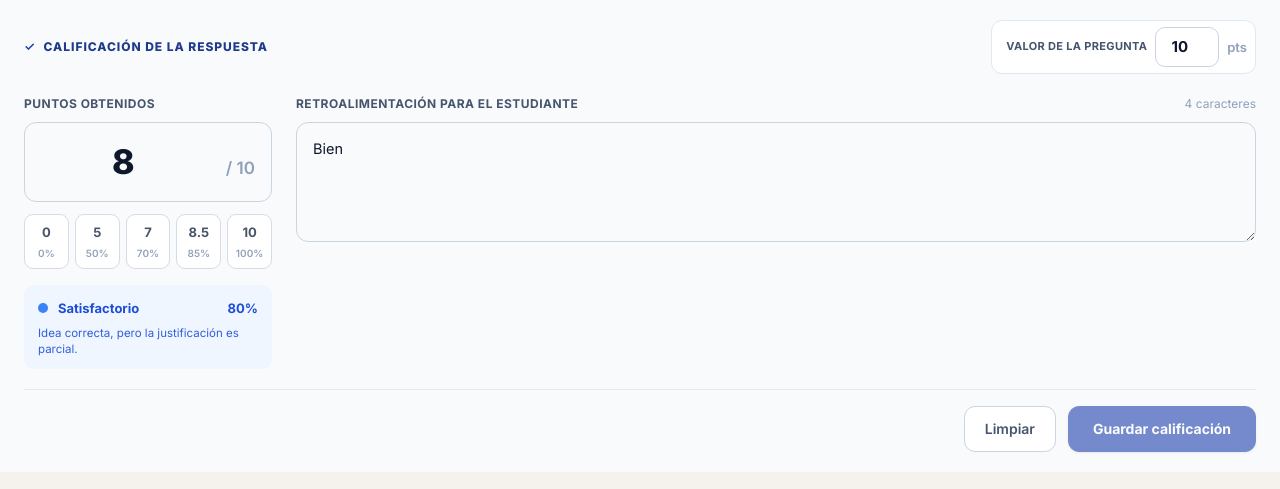
it: QuestionGradingPanel › disables Guardar until edited and when invalid
Expected: the button "Guardar calificación" is disabled, 1068,406 -> 1256,452
// make it invalid: points above max
Replace the text in the number field labelled "Puntos obtenidos" with "20" at (130, 162), box 41,133 -> 220,191
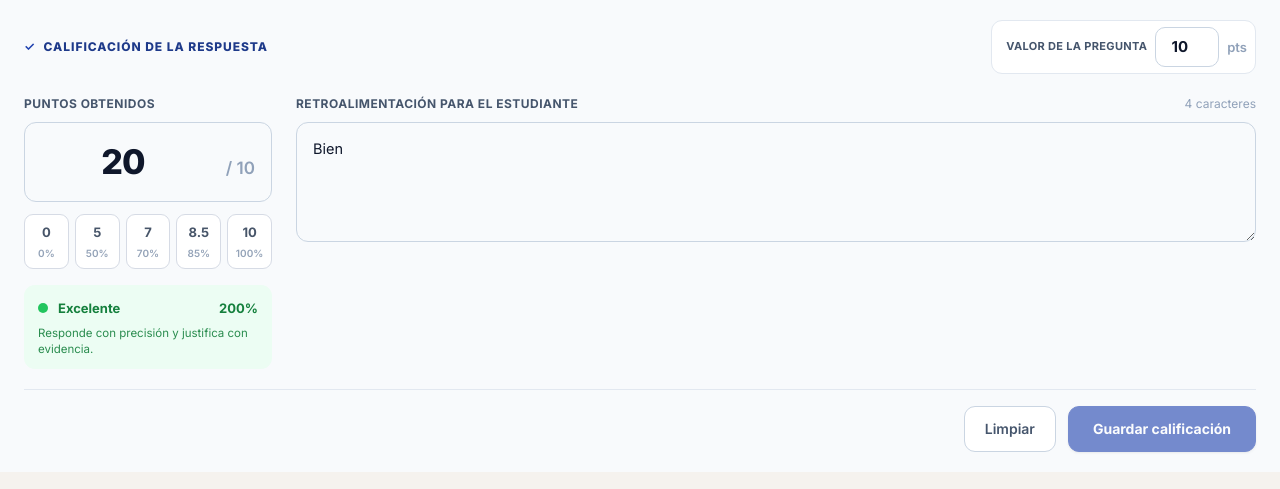
Expected: the button "Guardar calificación" is disabled, 1068,406 -> 1256,452
// valid edit enables it
Replace the text in the number field labelled "Puntos obtenidos" with "9" at (130, 162), box 41,133 -> 220,191
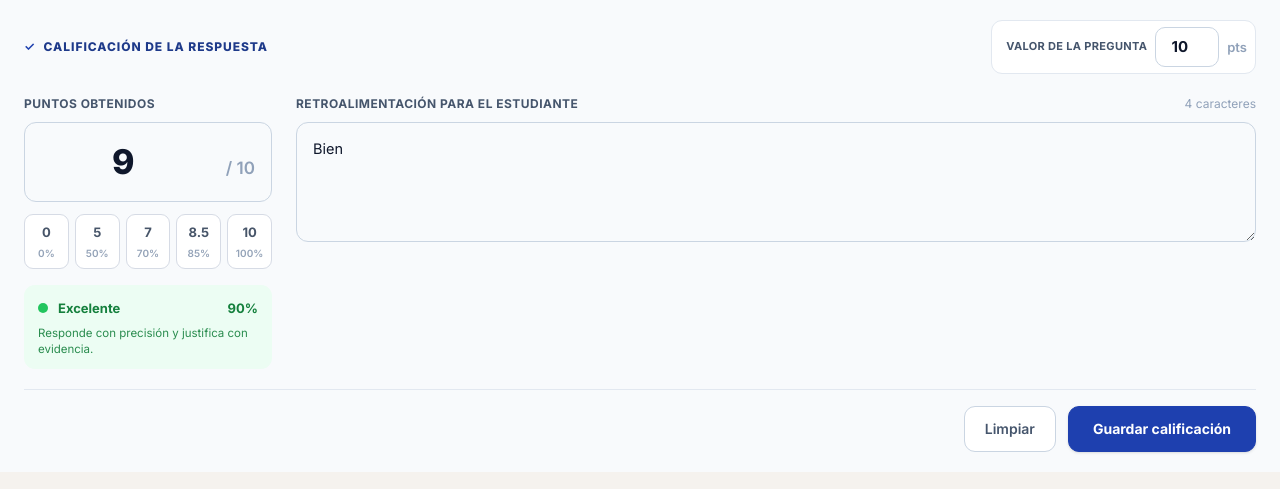
Now the button "Guardar calificación" is enabled, box 1068,406 -> 1256,452
